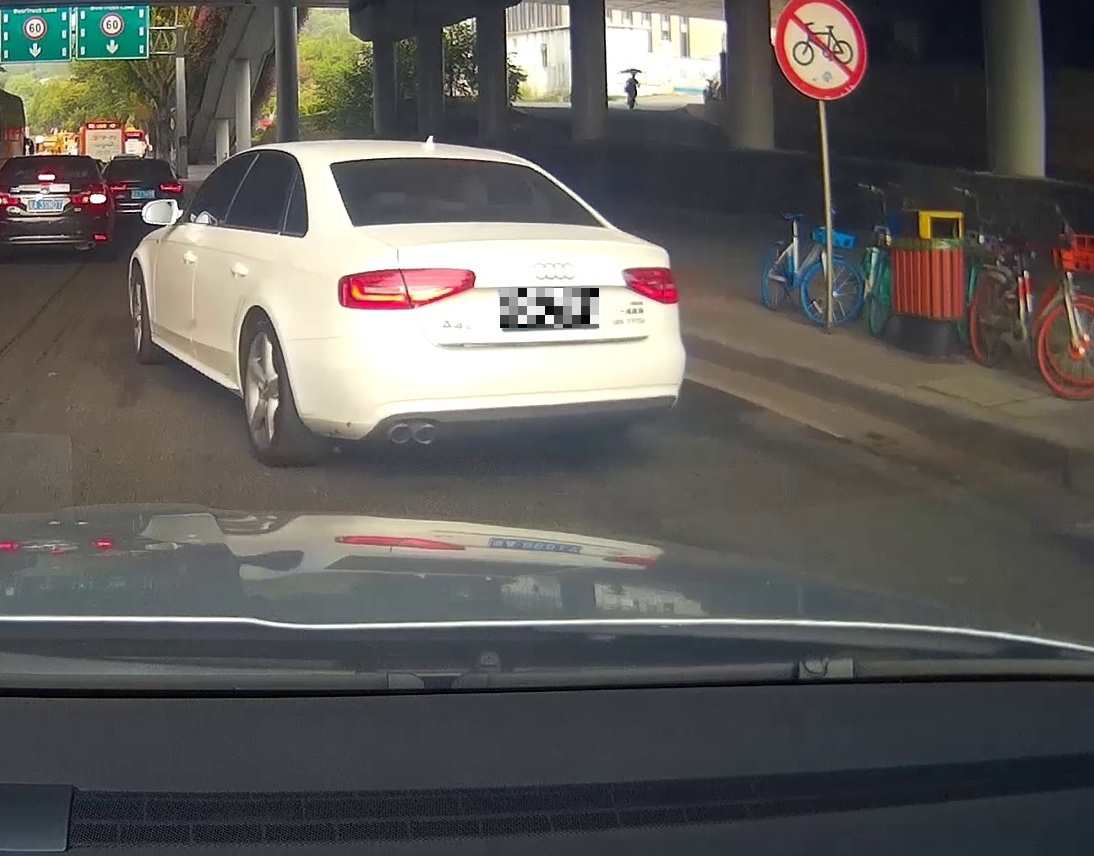L_light: (337, 267, 476, 310), (0, 192, 21, 206)
R_light: (622, 266, 680, 304), (72, 192, 108, 206)
T_light: (423, 153, 451, 158), (37, 174, 55, 180)
day-brake: (0, 154, 113, 261)
day-no: (307, 140, 686, 468)
plate_1: (500, 288, 599, 328)
